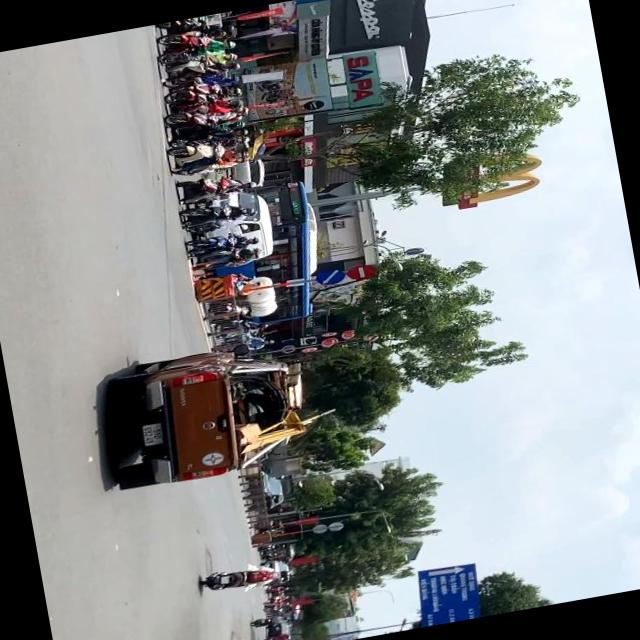P-102: (347, 260, 378, 282)
R-302a: (312, 264, 346, 288)
